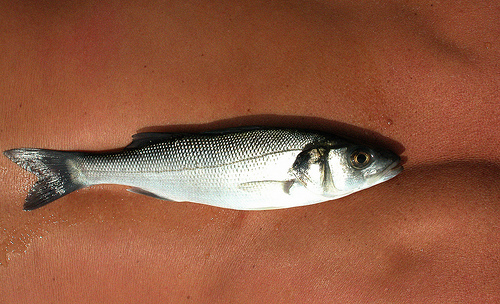fish: (3, 124, 408, 214)
